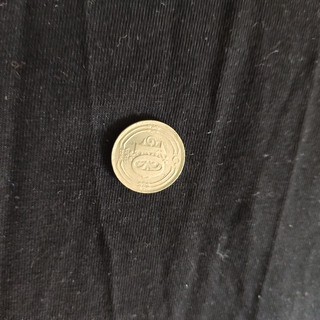10KURUS: (109, 117, 186, 195)
